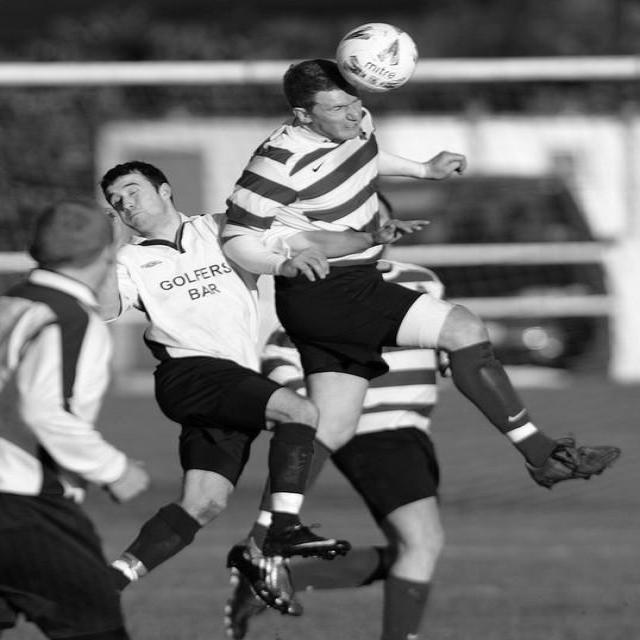vehicle: (380, 174, 606, 366)
